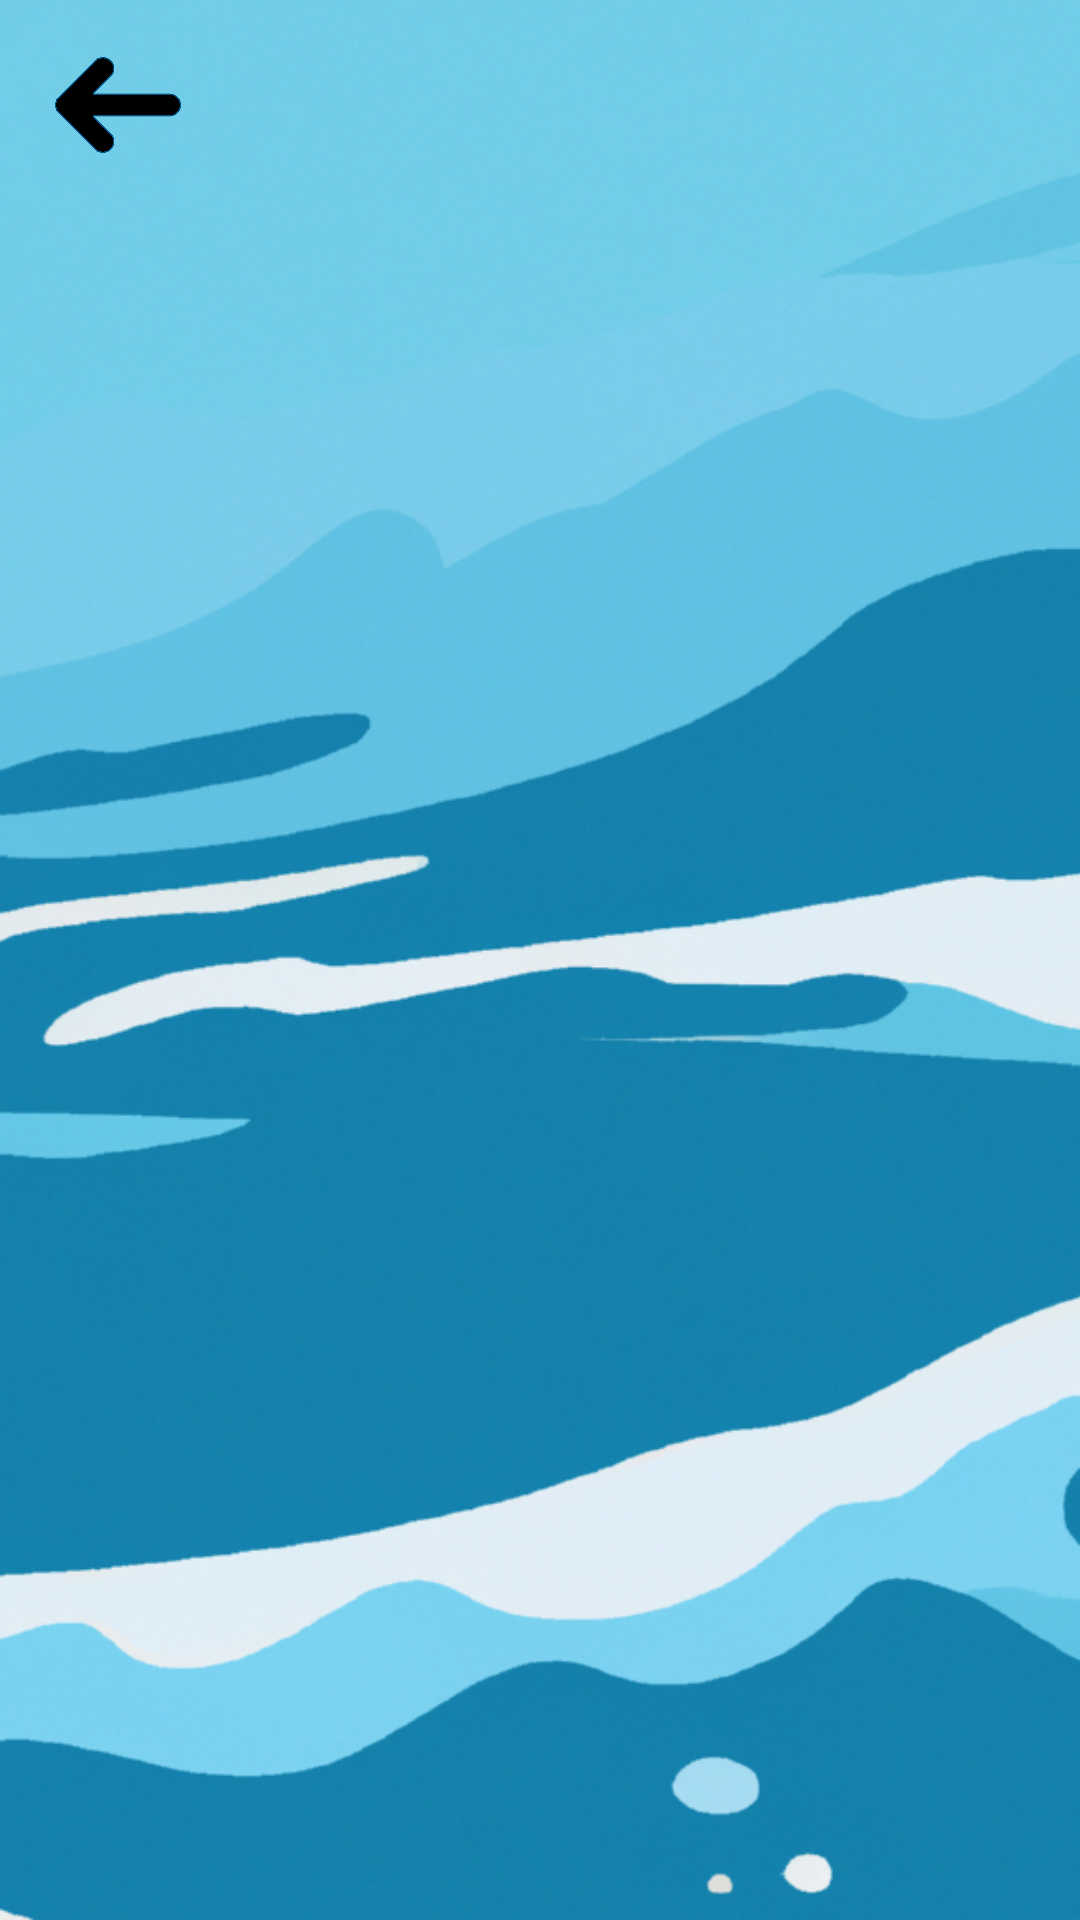

Named icons in this screenshot (1080px×1920px) and their bounding boxes, [left=x1, top=y1, right=x2, bottom=y2]:
backarrow: [left=55, top=57, right=181, bottom=153]
